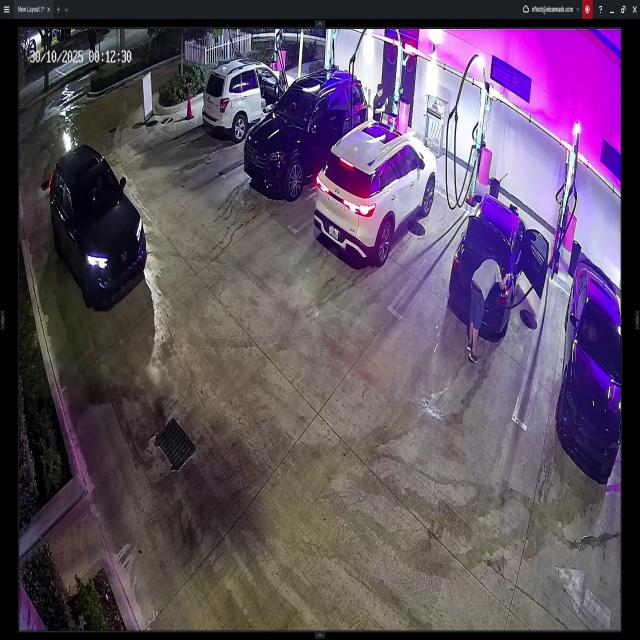Car: (316, 107, 433, 268), (41, 147, 148, 301), (243, 69, 366, 196), (559, 253, 620, 476), (460, 195, 545, 335), (200, 57, 301, 136)
